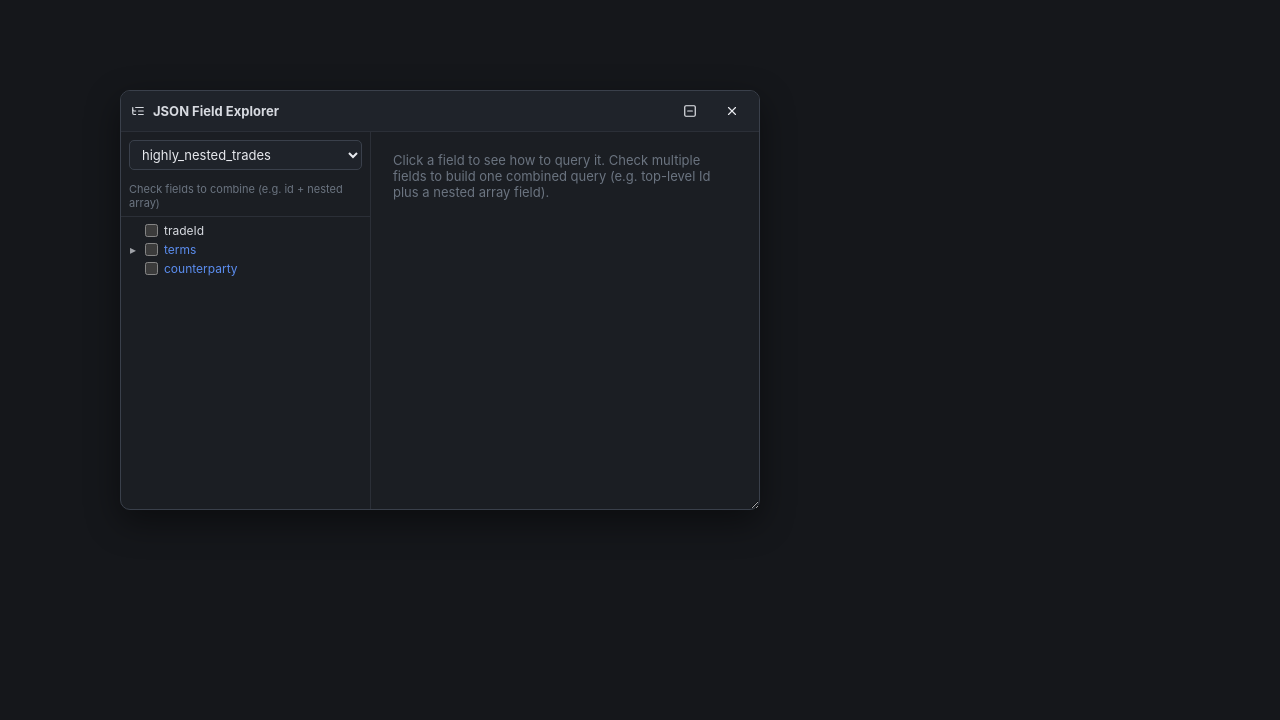
FieldExplorer shred steering › lists one source per loaded table (not per nested column)
Expected: the text "tradeId" is shown, [164, 223, 204, 238]
Expected: the text "terms" is shown, [164, 242, 196, 257]
Step 1. Click the text "▸" → (133, 250), box [130, 242, 136, 257]
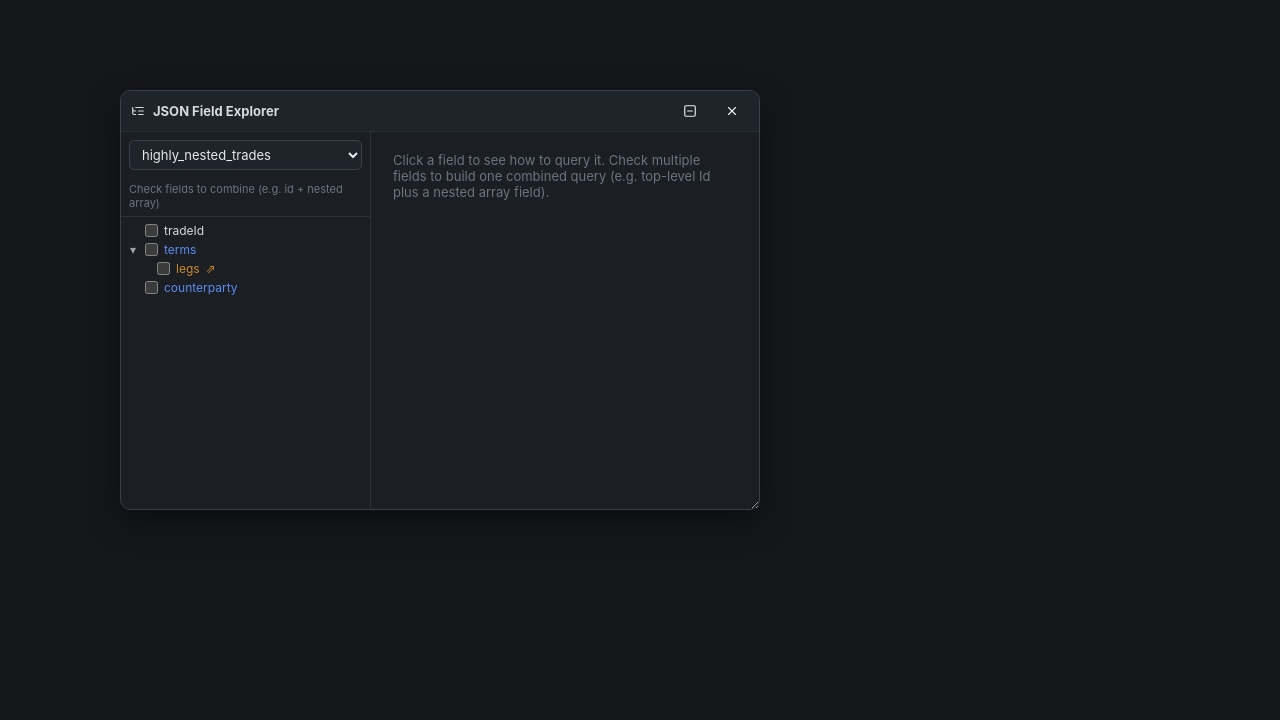
Expected: the text "legs" is shown, [176, 261, 200, 276]
